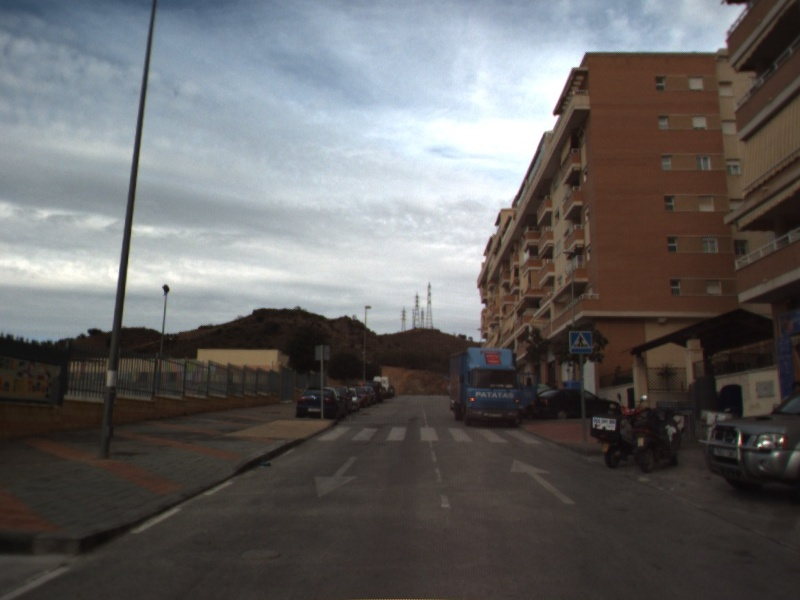STRAIGHT: (509, 456, 577, 506)
